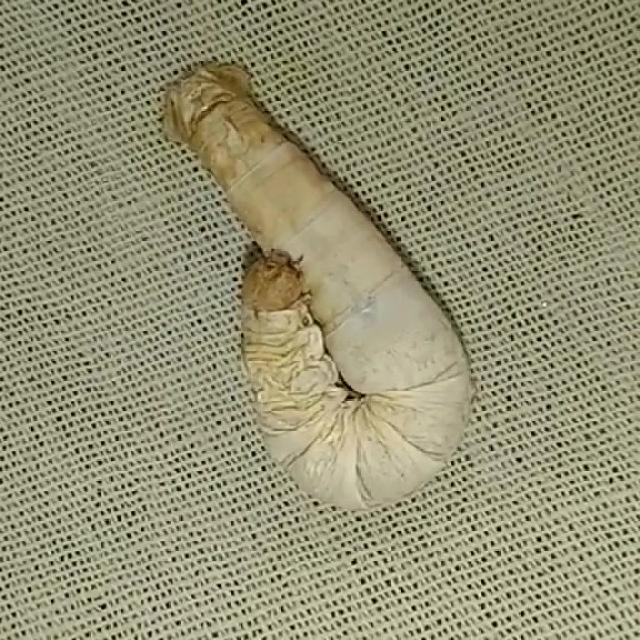Grasserie: (127, 41, 508, 529)
